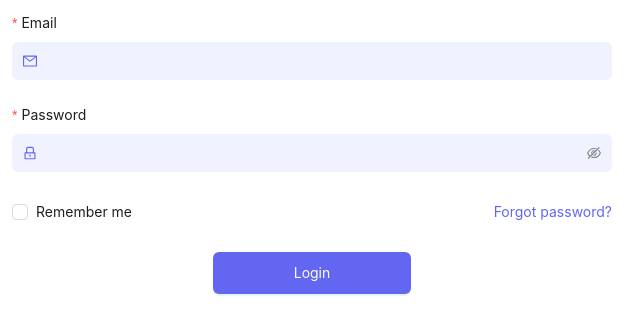
Test: LoginForm › validates email and password fields
What coordinates should you click on to do the following:
click the button "Login"
I would click on:
 (312, 273)
Its box is left=213, top=252, right=411, bottom=294.
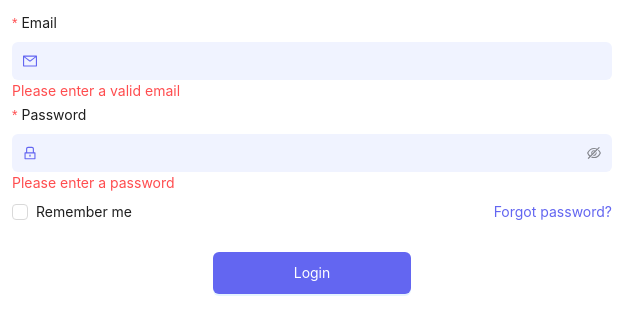
Now the text "Please enter a valid email" is shown, box left=12, top=82, right=180, bottom=99
Now the text "Please enter a password" is shown, box left=12, top=174, right=175, bottom=191
